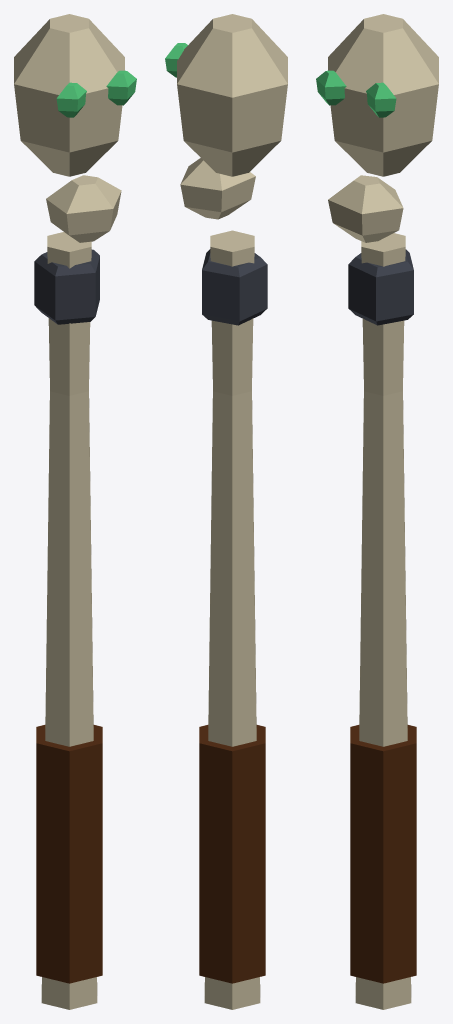
Rendered from wpn_wand_3.glb.
The picture shows the model from 3 angles, left to right: view 1: azimuth 30°, elevation 25°; view 2: azimuth 210°, elevation 25°; view 3: azimuth 330°, elevation 25°; orthographic projection.
Visible parts, largest first — view 1: wpn_wand_3; view 2: wpn_wand_3; view 3: wpn_wand_3.
Boxes of the visible parts, x1,y1,x2,y2 form: wpn_wand_3: (14,14,136,1009); wpn_wand_3: (165,14,287,1009); wpn_wand_3: (316,14,438,1009).
Size of the model in its own units: 0.08 by 0.67 by 0.0766.
